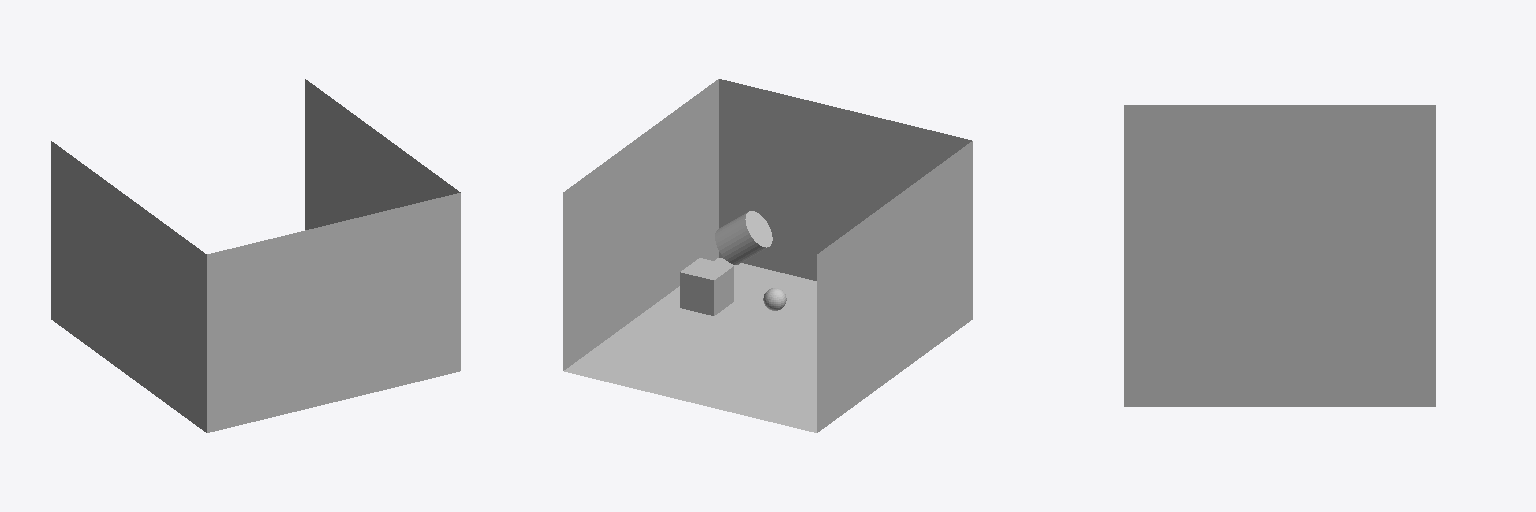
The model's file is materials.obj.
3 views of the same model, side by side, from view 1: azimuth 30°, elevation 25°; view 2: azimuth 150°, elevation 25°; view 3: azimuth 270°, elevation 25° (orthographic).
Visible parts, largest first — view 1: Cube; view 2: Cube, Cube.001, Cylinder; view 3: Cube.
Part boxes in pixels (x1,y1,x2,y2): Cube: (51, 79, 460, 432); Cube: (563, 79, 972, 432); Cube.001: (680, 258, 733, 315); Cylinder: (715, 211, 772, 264); Cube: (1124, 105, 1435, 406).
Size of the model in its own units: 4.81 by 3.24 by 5.11.